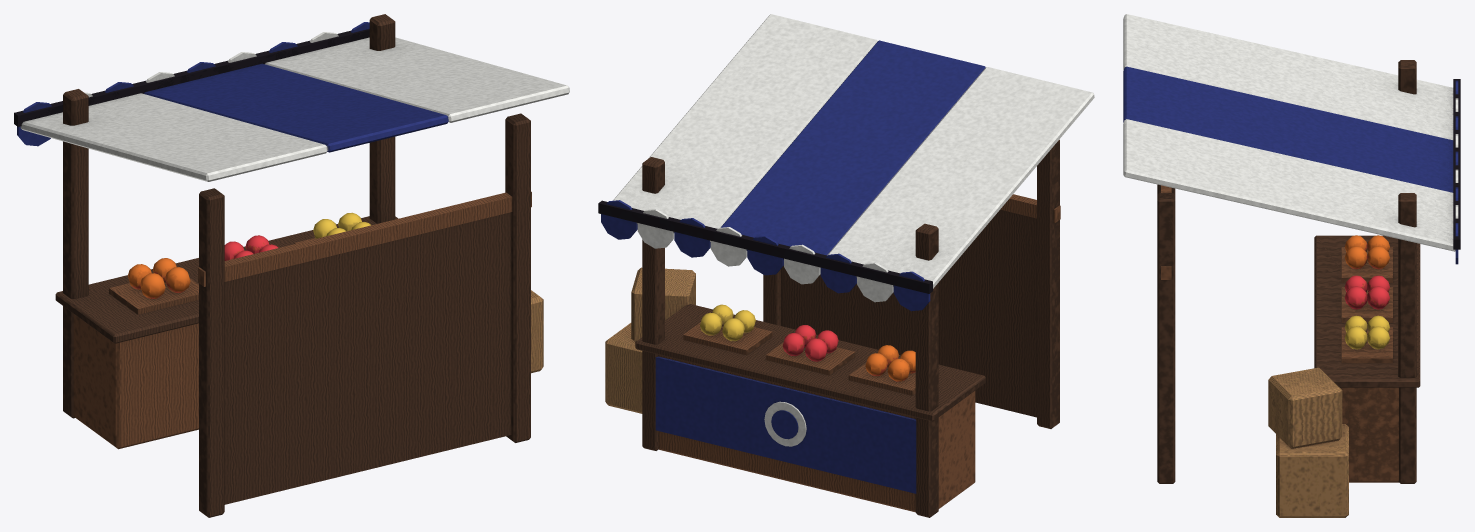
Rendered from festival_stall_indigo.fbx.
3 views of the same model, side by side, from view 1: azimuth 30°, elevation 25°; view 2: azimuth 150°, elevation 25°; view 3: azimuth 270°, elevation 25° (orthographic). The views are drawn at different scales.
Parts seen in each view (by area): view 1: festival_stall_indigo; view 2: festival_stall_indigo; view 3: festival_stall_indigo.
Boxes of the visible parts, x1,y1,x2,y2 form: festival_stall_indigo: (14,14,569,517); festival_stall_indigo: (598,14,1094,517); festival_stall_indigo: (1123,14,1460,517).
Bounding box in the file's own units: 1200 × 973 × 922.
Materials: 1 (1 with a texture image).
